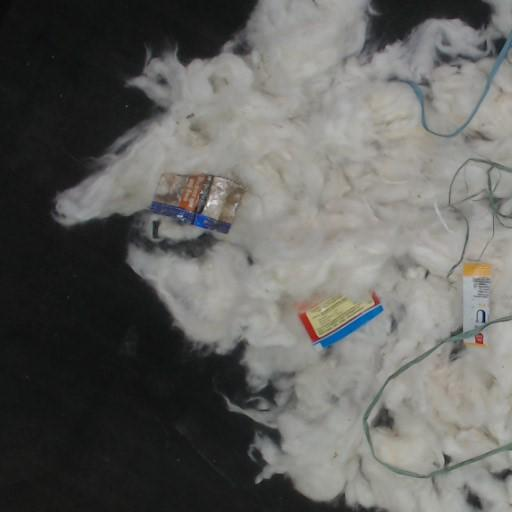conveyor belt: (374, 0, 490, 45)
cotton: (55, 0, 511, 511), (368, 322, 511, 472)
packet: (149, 174, 244, 233), (299, 293, 383, 347), (463, 262, 491, 332), (464, 332, 484, 345)
thread: (362, 315, 511, 478), (399, 31, 511, 138), (448, 158, 511, 237), (446, 216, 469, 278), (434, 203, 450, 231)
